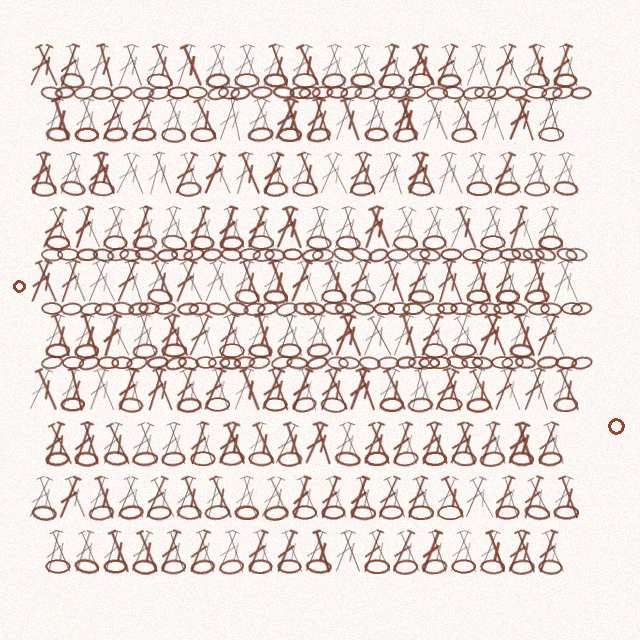chain: (59, 179, 87, 198), (160, 233, 188, 252), (146, 287, 174, 306), (523, 503, 551, 522), (59, 71, 86, 90), (291, 395, 318, 414), (73, 557, 100, 576), (331, 245, 356, 265), (146, 72, 173, 90), (378, 72, 405, 90), (392, 126, 419, 144), (407, 180, 434, 198), (320, 396, 347, 414), (334, 450, 361, 468), (479, 450, 506, 468), (88, 504, 115, 522), (218, 558, 245, 576), (349, 245, 374, 264), (533, 245, 558, 264), (306, 126, 332, 144), (393, 450, 419, 468), (31, 504, 57, 522), (263, 504, 289, 522), (190, 558, 216, 576), (523, 72, 550, 89), (247, 126, 274, 143), (88, 180, 115, 197), (204, 504, 231, 521), (305, 558, 332, 575), (421, 558, 448, 575), (205, 72, 231, 89), (321, 72, 347, 89), (45, 126, 71, 143), (103, 126, 129, 143), (495, 180, 521, 197), (553, 180, 579, 197), (132, 234, 158, 251), (234, 288, 260, 305), (350, 288, 376, 305), (524, 288, 550, 305), (306, 342, 332, 359), (103, 450, 129, 467), (219, 450, 245, 467), (451, 450, 477, 467), (118, 504, 144, 521), (176, 504, 202, 521), (206, 84, 230, 102), (275, 300, 299, 318), (505, 300, 529, 318), (77, 354, 101, 372), (125, 354, 149, 372), (164, 354, 188, 372), (305, 354, 329, 372), (407, 397, 434, 413), (451, 127, 477, 143), (31, 181, 57, 197), (176, 181, 202, 197), (263, 181, 289, 197), (292, 181, 318, 197), (524, 181, 550, 197), (306, 235, 332, 251), (335, 235, 361, 251), (408, 289, 434, 305), (132, 343, 158, 359), (118, 397, 144, 413), (176, 397, 202, 413), (132, 451, 158, 467), (248, 451, 274, 467), (277, 451, 303, 467), (350, 505, 376, 521), (509, 559, 535, 575), (367, 246, 390, 264), (339, 84, 363, 101), (372, 84, 396, 101), (486, 84, 510, 101), (551, 84, 575, 101), (106, 246, 130, 263), (182, 246, 206, 263), (510, 246, 534, 263), (555, 246, 579, 263), (111, 300, 135, 317), (226, 300, 250, 317), (256, 300, 280, 317), (302, 300, 326, 317), (40, 354, 64, 371), (270, 354, 294, 371), (445, 354, 469, 371), (437, 73, 462, 89), (161, 127, 186, 143), (350, 181, 375, 197), (219, 235, 244, 251), (393, 235, 418, 251), (263, 289, 288, 305), (74, 343, 99, 359), (248, 343, 273, 359), (509, 343, 534, 359), (466, 397, 491, 413), (45, 451, 70, 467), (74, 451, 99, 467), (161, 451, 186, 467), (509, 451, 534, 467), (538, 451, 563, 467), (147, 505, 172, 521), (132, 559, 157, 575), (161, 559, 186, 575), (393, 559, 418, 575), (480, 559, 505, 575), (538, 559, 563, 575), (127, 300, 150, 317), (234, 73, 260, 88), (292, 73, 318, 88), (408, 73, 434, 88), (190, 127, 216, 142), (538, 127, 564, 142), (466, 181, 492, 196), (248, 235, 274, 250), (480, 235, 506, 250), (321, 289, 347, 304), (161, 343, 187, 358), (219, 343, 245, 358), (422, 343, 448, 358), (451, 343, 477, 358), (437, 397, 463, 412), (190, 451, 216, 466), (408, 505, 434, 520), (437, 505, 463, 520), (553, 505, 579, 520), (45, 559, 71, 574), (364, 559, 390, 574), (540, 85, 564, 101), (418, 247, 442, 263), (480, 247, 504, 263), (79, 301, 103, 317), (292, 301, 316, 317), (570, 355, 594, 371), (263, 73, 288, 88), (350, 73, 375, 88), (553, 73, 578, 88), (74, 127, 99, 142), (132, 127, 157, 142), (277, 127, 302, 142), (364, 127, 389, 142), (45, 235, 70, 250), (103, 235, 128, 250), (190, 235, 215, 250), (422, 235, 447, 250), (538, 235, 563, 250), (466, 289, 491, 304), (495, 289, 520, 304), (45, 343, 70, 358), (277, 343, 302, 358), (60, 397, 85, 412), (205, 397, 230, 412), (263, 397, 288, 412), (379, 397, 404, 412), (553, 397, 578, 412), (364, 451, 389, 466), (422, 451, 447, 466), (234, 505, 259, 520), (292, 505, 317, 520), (321, 505, 346, 520), (379, 505, 404, 520), (495, 505, 520, 520), (103, 559, 128, 574), (248, 559, 273, 574), (277, 559, 302, 574), (451, 559, 476, 574), (40, 85, 63, 101), (148, 85, 171, 101), (229, 85, 252, 101), (462, 85, 485, 101), (92, 247, 115, 263), (252, 247, 275, 263), (301, 247, 324, 263), (206, 301, 229, 317), (243, 301, 266, 317), (177, 355, 200, 371), (358, 355, 381, 371), (471, 355, 494, 371), (73, 85, 96, 100), (110, 85, 133, 100), (250, 85, 273, 100), (272, 85, 295, 100), (298, 85, 321, 100), (311, 85, 334, 100), (354, 85, 377, 100), (388, 85, 411, 100), (404, 85, 427, 100), (442, 85, 465, 100), (134, 247, 157, 262), (220, 247, 243, 262), (408, 247, 431, 262), (522, 247, 545, 262), (565, 247, 588, 262), (154, 301, 177, 316), (188, 301, 211, 316), (322, 301, 345, 316), (466, 301, 489, 316), (570, 301, 593, 316), (146, 355, 169, 370), (233, 355, 256, 370), (248, 355, 271, 370), (501, 355, 524, 370), (514, 355, 537, 370), (536, 355, 559, 370), (54, 85, 76, 100), (201, 247, 223, 262), (334, 301, 356, 316), (395, 355, 417, 370), (132, 86, 155, 100), (60, 302, 83, 316), (326, 356, 349, 370), (91, 86, 113, 100), (426, 86, 448, 100), (570, 86, 592, 100), (41, 248, 63, 262), (119, 248, 141, 262), (156, 248, 178, 262), (264, 248, 286, 262), (312, 248, 334, 262), (387, 248, 409, 262), (94, 302, 116, 316), (177, 302, 199, 316), (353, 302, 375, 316), (423, 302, 445, 316), (479, 302, 501, 316), (528, 302, 550, 316), (540, 302, 562, 316), (219, 356, 241, 370), (286, 356, 308, 370), (338, 356, 360, 370), (377, 356, 399, 370), (167, 86, 189, 99), (186, 86, 208, 99), (218, 86, 240, 99), (289, 86, 311, 99), (326, 86, 348, 99), (474, 86, 496, 99), (506, 86, 528, 99), (525, 86, 547, 99), (57, 248, 79, 261), (76, 248, 98, 261), (171, 248, 193, 261), (239, 248, 261, 261), (440, 248, 462, 261), (462, 248, 484, 261), (499, 248, 521, 261), (41, 302, 63, 315), (138, 302, 160, 315), (373, 302, 395, 315), (388, 302, 410, 315), (402, 302, 424, 315), (450, 302, 472, 315), (493, 302, 515, 315), (561, 302, 583, 315), (62, 356, 84, 369), (97, 356, 119, 369), (111, 356, 133, 369), (195, 356, 217, 369), (208, 356, 230, 369), (408, 356, 430, 369), (418, 356, 440, 369), (429, 356, 451, 369), (461, 356, 483, 369), (491, 356, 513, 369), (555, 356, 577, 369), (282, 248, 303, 261), (437, 302, 458, 315)
double: (450, 313, 485, 359), (385, 205, 419, 251), (306, 313, 340, 359), (364, 313, 398, 359), (147, 475, 181, 521), (466, 475, 500, 521), (190, 96, 223, 143), (269, 96, 302, 143), (451, 96, 484, 143), (466, 150, 499, 197), (89, 258, 122, 305), (176, 258, 209, 305), (103, 312, 136, 359), (23, 366, 56, 413), (176, 366, 209, 413), (23, 474, 56, 521), (255, 474, 288, 521), (110, 151, 143, 197), (321, 151, 354, 197), (37, 205, 70, 251), (161, 313, 194, 359), (422, 313, 455, 359), (429, 367, 462, 413), (466, 367, 499, 413), (45, 421, 78, 467), (103, 421, 136, 467), (269, 421, 302, 467), (524, 475, 557, 521), (24, 42, 56, 89), (32, 42, 64, 89), (293, 42, 325, 89), (409, 42, 441, 89), (496, 42, 528, 89), (125, 96, 157, 143), (241, 96, 273, 143), (169, 150, 201, 197), (372, 150, 404, 197), (409, 150, 441, 197), (496, 150, 528, 197), (517, 150, 549, 197), (46, 204, 78, 251), (75, 204, 107, 251), (96, 204, 128, 251), (162, 204, 194, 251), (249, 204, 281, 251), (299, 204, 331, 251), (140, 258, 172, 305), (372, 258, 404, 305), (401, 258, 433, 305), (183, 312, 215, 359), (539, 312, 571, 359), (256, 366, 288, 413), (322, 366, 354, 413), (380, 366, 412, 413), (125, 420, 157, 467), (249, 420, 281, 467), (299, 420, 331, 467), (444, 420, 476, 467), (206, 474, 238, 521), (293, 474, 325, 521), (372, 474, 404, 521), (380, 474, 412, 521), (430, 474, 462, 521), (438, 474, 470, 521), (365, 528, 397, 575), (386, 528, 418, 575), (394, 528, 426, 575), (177, 42, 208, 89), (285, 42, 316, 89), (351, 42, 382, 89), (438, 42, 469, 89), (96, 96, 127, 143), (90, 150, 121, 197), (177, 150, 208, 197), (198, 150, 229, 197), (206, 150, 237, 197), (235, 150, 266, 197), (264, 150, 295, 197), (314, 150, 345, 197), (343, 150, 374, 197), (438, 150, 469, 197), (488, 150, 519, 197), (546, 150, 577, 197), (220, 204, 251, 251), (270, 204, 301, 251), (328, 204, 359, 251), (365, 204, 396, 251), (423, 204, 454, 251), (444, 204, 475, 251), (452, 204, 483, 251), (473, 204, 504, 251), (539, 204, 570, 251), (32, 258, 63, 305), (82, 258, 113, 305), (111, 258, 142, 305), (148, 258, 179, 305), (206, 258, 237, 305), (285, 258, 316, 305), (314, 258, 345, 305), (322, 258, 353, 305), (517, 258, 548, 305), (554, 258, 585, 305), (220, 312, 251, 359), (241, 312, 272, 359), (357, 312, 388, 359), (415, 312, 446, 359), (473, 312, 504, 359), (481, 312, 512, 359), (531, 312, 562, 359), (32, 366, 63, 413), (90, 366, 121, 413), (198, 366, 229, 413), (372, 366, 403, 413), (554, 366, 585, 413), (220, 420, 251, 467), (336, 420, 367, 467), (365, 420, 396, 467), (423, 420, 454, 467), (502, 420, 533, 467), (53, 474, 84, 521), (61, 474, 92, 521), (111, 474, 142, 521), (140, 474, 171, 521), (264, 474, 295, 521), (322, 474, 353, 521), (409, 474, 440, 521), (459, 474, 490, 521), (46, 528, 77, 575), (75, 528, 106, 575), (125, 528, 156, 575), (133, 528, 164, 575), (212, 528, 243, 575), (278, 528, 309, 575), (299, 528, 330, 575), (444, 528, 475, 575), (473, 528, 504, 575), (502, 528, 533, 575), (539, 528, 570, 575), (112, 42, 142, 89), (141, 42, 171, 89), (149, 42, 179, 89), (199, 42, 229, 89), (207, 42, 237, 89), (228, 42, 258, 89), (236, 42, 266, 89), (257, 42, 287, 89), (315, 42, 345, 89), (381, 42, 411, 89), (431, 42, 461, 89), (489, 42, 519, 89), (518, 42, 548, 89), (76, 96, 106, 143), (250, 96, 280, 143), (366, 96, 396, 143), (416, 96, 446, 143), (424, 96, 454, 143), (445, 96, 475, 143), (503, 96, 533, 143), (33, 150, 63, 197), (54, 150, 84, 197), (120, 150, 150, 197), (257, 150, 287, 197), (294, 150, 324, 197), (352, 150, 382, 197), (402, 150, 432, 197), (555, 150, 585, 197), (242, 204, 272, 251), (395, 204, 425, 251), (416, 204, 446, 251), (482, 204, 512, 251), (511, 204, 541, 251), (532, 204, 562, 251), (25, 258, 55, 305), (62, 258, 92, 305), (170, 258, 200, 305), (199, 258, 229, 305), (236, 258, 266, 305), (294, 258, 324, 305), (344, 258, 374, 305), (352, 258, 382, 305), (439, 258, 469, 305), (460, 258, 490, 305), (68, 312, 98, 359), (279, 312, 309, 359), (329, 312, 359, 359), (337, 312, 367, 359), (387, 312, 417, 359), (503, 312, 533, 359), (511, 312, 541, 359), (112, 366, 142, 413), (149, 366, 179, 413), (228, 366, 258, 413), (236, 366, 266, 413), (265, 366, 295, 413), (286, 366, 316, 413), (489, 366, 519, 413), (497, 366, 527, 413), (518, 366, 548, 413), (134, 420, 164, 467), (213, 420, 243, 467), (358, 420, 388, 467), (482, 420, 512, 467), (532, 420, 562, 467), (540, 420, 570, 467), (120, 474, 150, 521), (170, 474, 200, 521), (178, 474, 208, 521), (489, 474, 519, 521), (547, 474, 577, 521), (105, 528, 135, 575), (184, 528, 214, 575), (242, 528, 272, 575), (271, 528, 301, 575), (329, 528, 359, 575), (337, 528, 367, 575), (416, 528, 446, 575), (453, 528, 483, 575), (511, 528, 541, 575), (54, 42, 83, 89), (62, 42, 91, 89), (83, 42, 112, 89), (120, 42, 149, 89), (265, 42, 294, 89), (344, 42, 373, 89), (373, 42, 402, 89), (402, 42, 431, 89), (460, 42, 489, 89), (468, 42, 497, 89), (526, 42, 555, 89), (547, 42, 576, 89), (105, 96, 134, 143), (163, 96, 192, 143), (184, 96, 213, 143), (213, 96, 242, 143), (329, 96, 358, 143), (337, 96, 366, 143), (395, 96, 424, 143), (482, 96, 511, 143), (532, 96, 561, 143), (149, 150, 178, 197), (286, 150, 315, 197), (460, 150, 489, 197), (526, 150, 555, 197), (105, 204, 134, 251), (155, 204, 184, 251), (184, 204, 213, 251), (279, 204, 308, 251), (257, 258, 286, 305), (265, 258, 294, 305), (381, 258, 410, 305), (410, 258, 439, 305), (497, 258, 526, 305), (547, 258, 576, 305), (39, 312, 68, 359), (134, 312, 163, 359), (83, 366, 112, 413), (315, 366, 344, 413), (344, 366, 373, 413), (352, 366, 381, 413), (460, 366, 489, 413), (97, 420, 126, 467), (155, 420, 184, 467), (163, 420, 192, 467), (387, 420, 416, 467), (395, 420, 424, 467), (416, 420, 445, 467), (33, 474, 62, 521), (83, 474, 112, 521), (91, 474, 120, 521), (315, 474, 344, 521), (344, 474, 373, 521), (402, 474, 431, 521), (518, 474, 547, 521), (555, 474, 584, 521), (155, 528, 184, 575), (163, 528, 192, 575), (192, 528, 221, 575), (250, 528, 279, 575), (358, 528, 387, 575), (482, 528, 511, 575), (171, 42, 199, 89), (324, 42, 352, 89), (556, 42, 584, 89), (48, 96, 76, 143), (69, 96, 97, 143), (135, 96, 163, 143), (156, 96, 184, 143), (301, 96, 329, 143), (309, 96, 337, 143), (388, 96, 416, 143), (475, 96, 503, 143), (512, 96, 540, 143), (26, 150, 54, 197), (63, 150, 91, 197), (84, 150, 112, 197), (432, 150, 460, 197), (69, 204, 97, 251), (127, 204, 155, 251), (359, 204, 387, 251), (55, 258, 83, 305), (121, 258, 149, 305), (229, 258, 257, 305), (469, 258, 497, 305), (48, 312, 76, 359), (214, 312, 242, 359), (272, 312, 300, 359), (301, 312, 329, 359), (446, 312, 474, 359), (55, 366, 83, 413), (171, 366, 199, 413), (208, 366, 236, 413), (295, 366, 323, 413), (411, 366, 439, 413), (527, 366, 555, 413), (40, 420, 68, 467), (69, 420, 97, 467), (77, 420, 105, 467), (280, 420, 308, 467), (309, 420, 337, 467), (330, 420, 358, 467), (454, 420, 482, 467), (475, 420, 503, 467), (229, 474, 257, 521), (287, 474, 315, 521), (69, 528, 97, 575), (222, 528, 250, 575), (425, 528, 453, 575), (533, 528, 561, 575), (40, 96, 67, 143), (280, 96, 307, 143), (359, 96, 386, 143), (382, 150, 409, 197), (214, 204, 241, 251), (309, 204, 336, 251), (338, 204, 365, 251), (504, 204, 531, 251), (432, 258, 459, 305), (490, 258, 517, 305), (527, 258, 554, 305), (77, 312, 104, 359), (98, 312, 125, 359), (156, 312, 183, 359), (193, 312, 220, 359), (251, 312, 278, 359), (396, 312, 423, 359), (142, 366, 169, 413), (440, 366, 467, 413), (548, 366, 575, 413), (185, 420, 212, 467), (193, 420, 220, 467), (243, 420, 270, 467), (512, 420, 539, 467), (237, 474, 264, 521), (353, 474, 380, 521), (498, 474, 525, 521), (98, 528, 125, 575), (309, 528, 336, 575), (93, 42, 119, 89), (542, 96, 568, 143), (143, 150, 169, 197), (230, 150, 256, 197), (136, 204, 162, 251), (194, 204, 220, 251), (128, 312, 154, 359), (122, 366, 148, 413), (64, 366, 89, 413), (201, 474, 226, 521), (41, 528, 66, 575), (405, 366, 429, 413), (224, 96, 247, 143)
noise: (605, 415, 627, 437), (11, 278, 27, 294)
